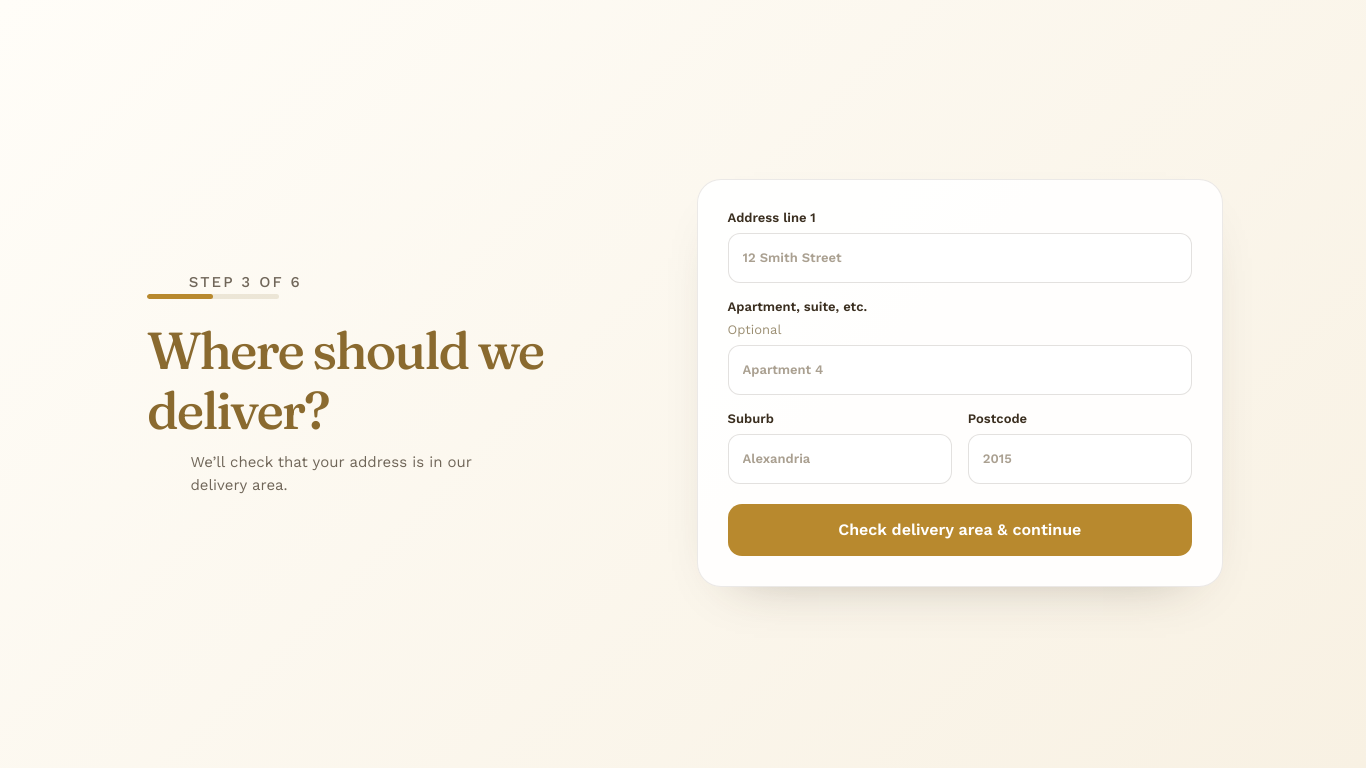
Test: Address › blocks and shows a message when out of range
Type "1 King St" into the field labelled "Address line 1" at (960, 258), box [728,233,1192,283]
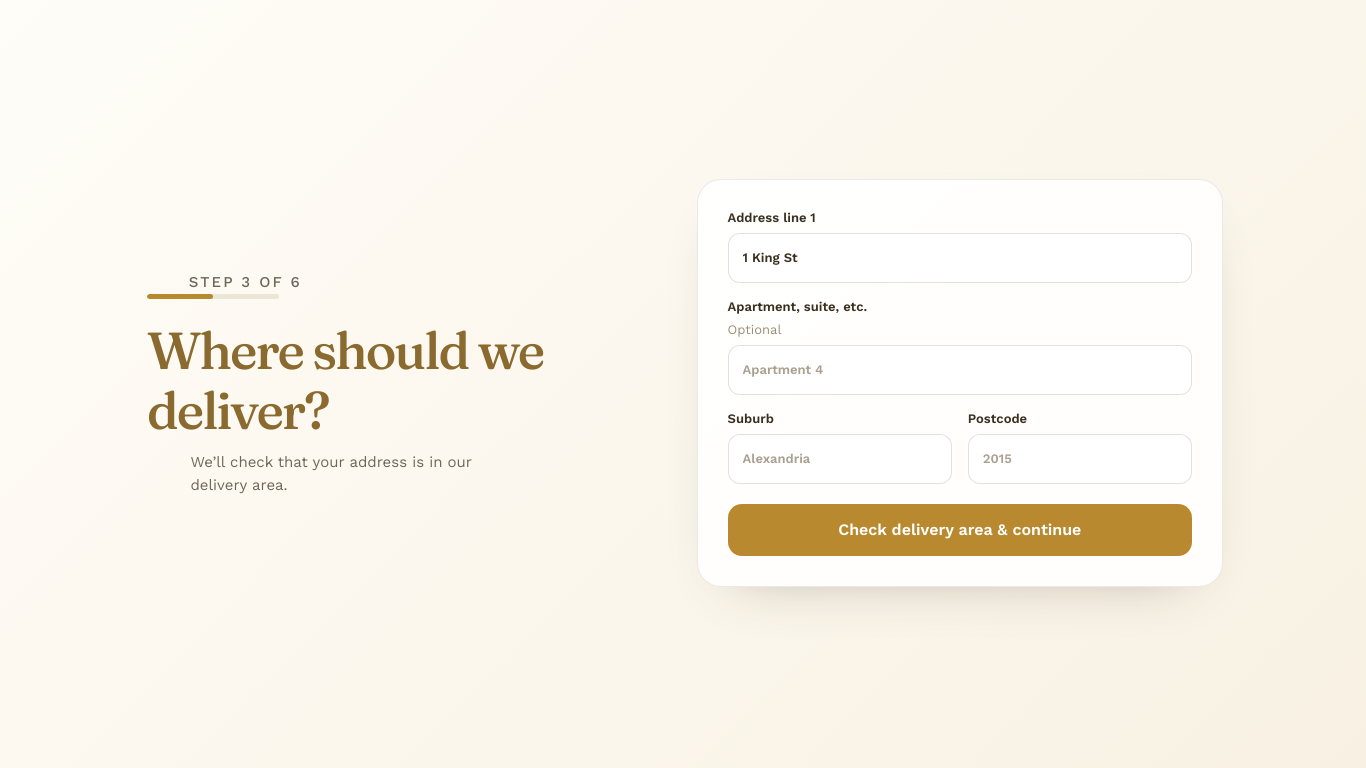
Type "Sydney" into the field labelled "Suburb" at (840, 459), box [728,434,952,484]
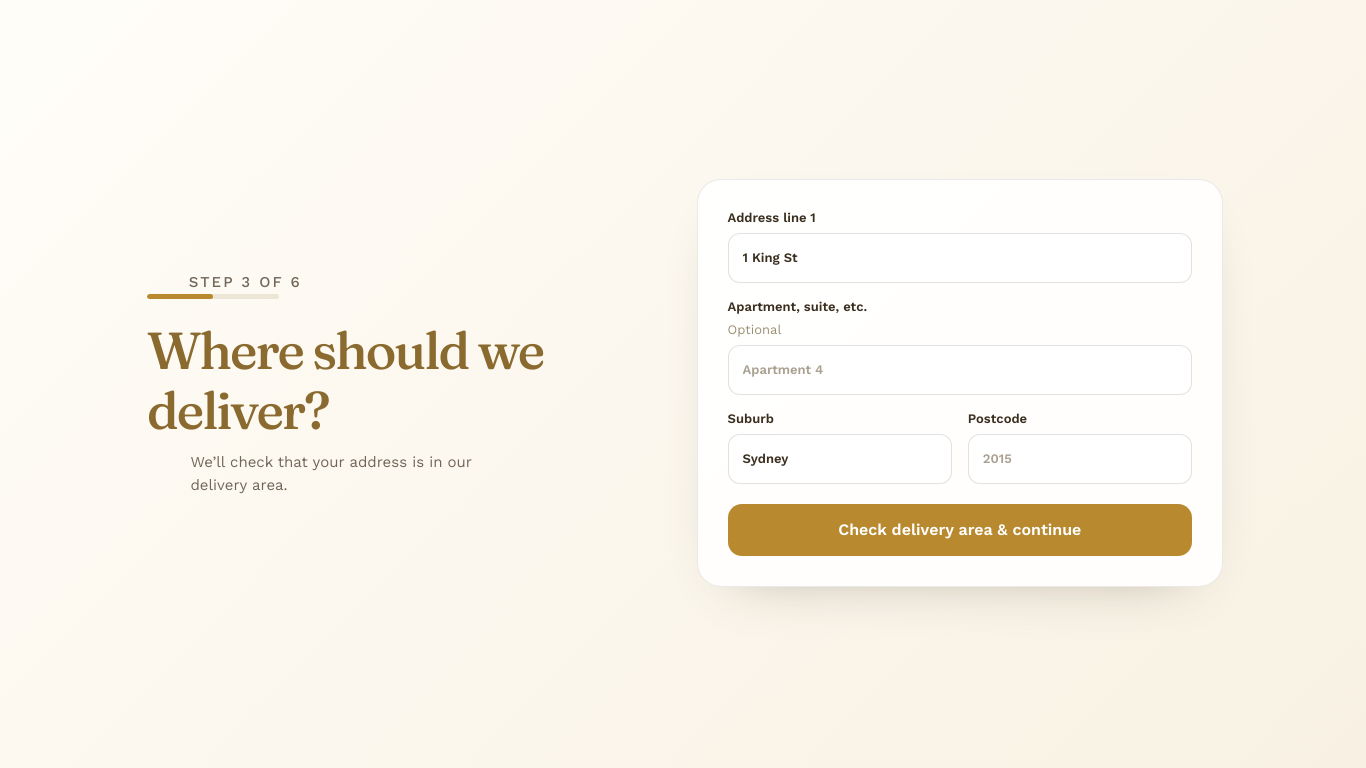
Type "2017" into the field labelled "Postcode" at (1080, 459), box [968,434,1192,484]
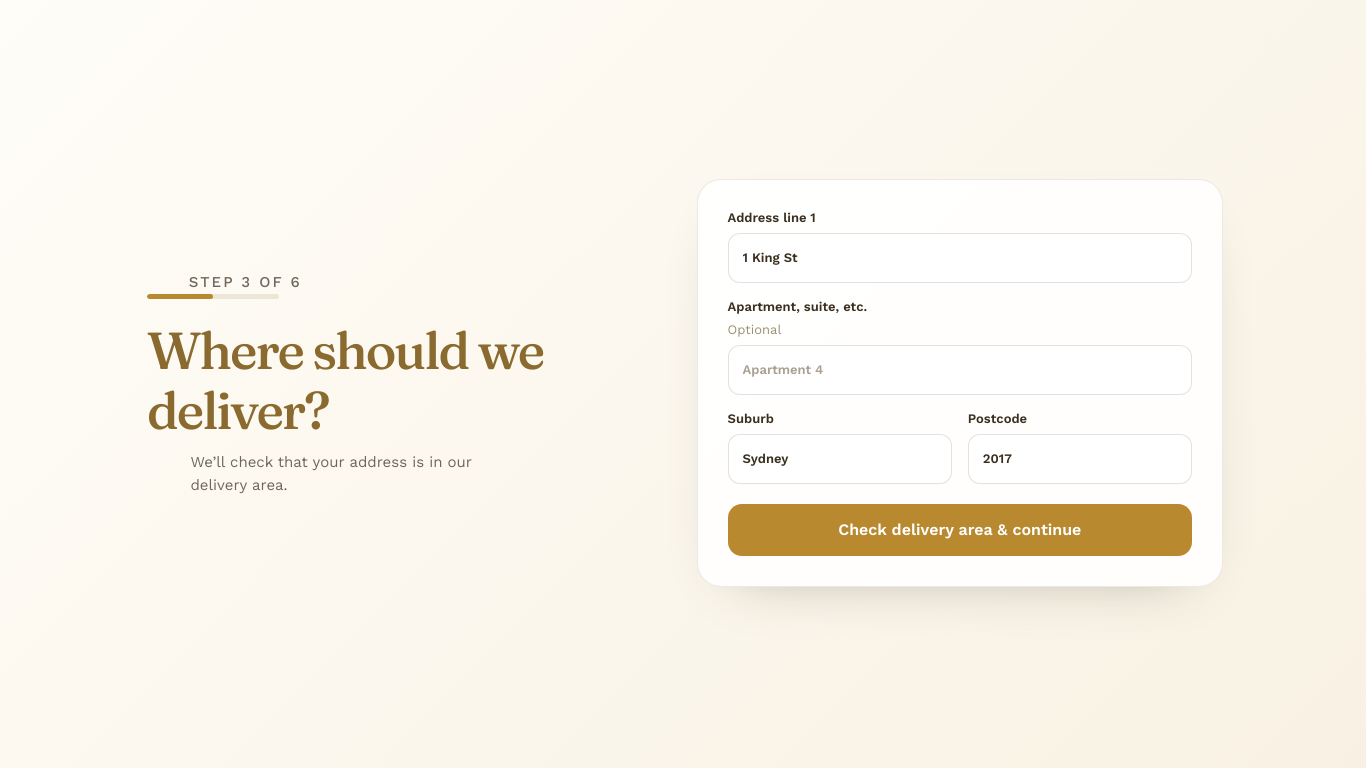
Click the button "Check delivery area & continue" at (960, 530), box [728,504,1192,556]
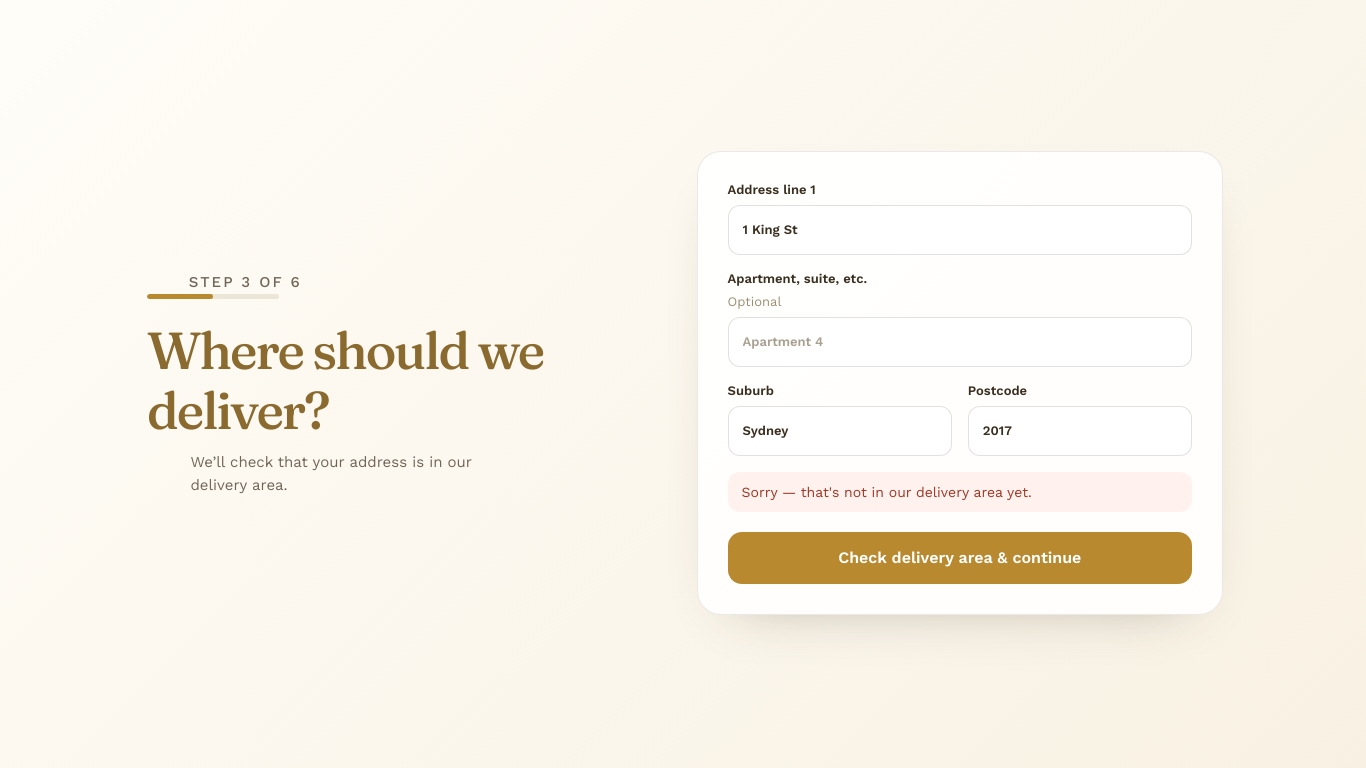
Result: the text "Sorry — that's not in our delivery area yet." is shown at [728,472,1192,512]
